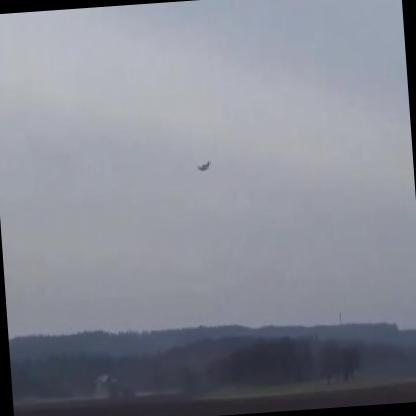plane: (196, 162, 211, 173)
